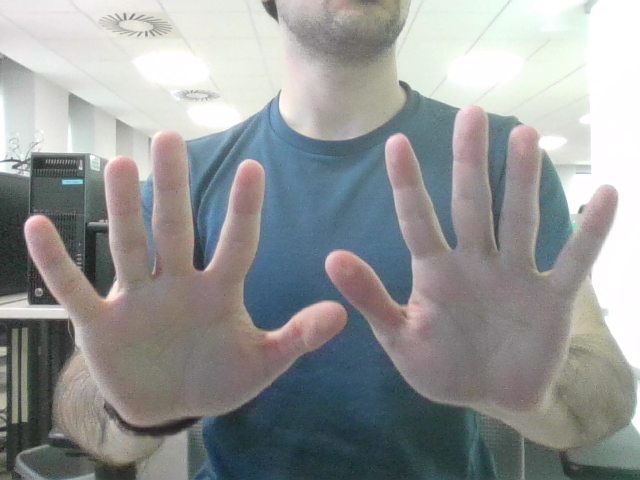Manos Arriba: (67, 137, 576, 380)
